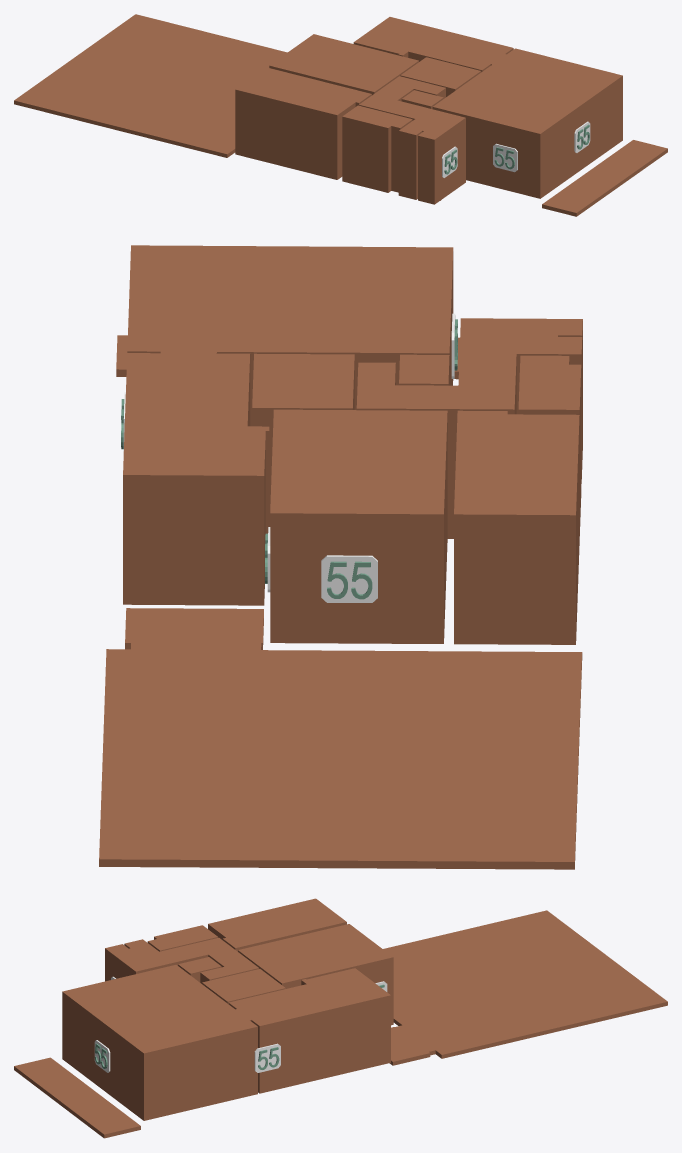
3 renders of one model, top to bottom at view 1: azimuth 30°, elevation 25°; view 2: azimuth 150°, elevation 25°; view 3: azimuth 270°, elevation 25°, orthographic. The views are drawn at different scales.
Visible parts, largest first — view 1: g_9, g_7, g_0, g_5, g_1, g_6, g_2, g_8, g_3, g_4, g_15; view 2: g_9, g_1, g_7, g_2, g_0, g_5, g_3, g_6, g_27, g_4; view 3: g_9, g_7, g_2, g_1, g_8, g_5, g_0, g_3, g_6, g_4, g_21.
Boxes of the visible parts, x1,y1,x2,y2 form: g_9: (14,14,287,157); g_7: (432,48,622,198); g_0: (235,67,371,179); g_5: (359,76,465,204); g_1: (269,34,418,95); g_6: (342,105,412,192); g_2: (353,17,513,71); g_8: (542,140,667,216); g_3: (400,57,481,96); g_4: (401,90,443,109); g_15: (493,143,517,172); g_9: (99,608,582,869); g_1: (270,409,447,643); g_7: (127,245,453,426); g_2: (123,352,269,605); g_0: (454,410,579,644); g_5: (356,318,582,538); g_3: (252,353,354,526); g_6: (518,355,581,535); g_27: (321,555,377,602); g_4: (399,354,449,385); g_9: (383,910,667,1065); g_7: (62,965,257,1120); g_2: (228,968,390,1093); g_1: (238,924,393,1025); g_8: (14,1057,140,1138); g_5: (105,938,259,983); g_0: (208,898,346,951); g_3: (202,969,285,1003); g_6: (147,925,218,951); g_4: (178,957,221,982); g_21: (254,1043,280,1072).
Bounding box in the file's own units: 18.33 × 2.74 × 22.59.
